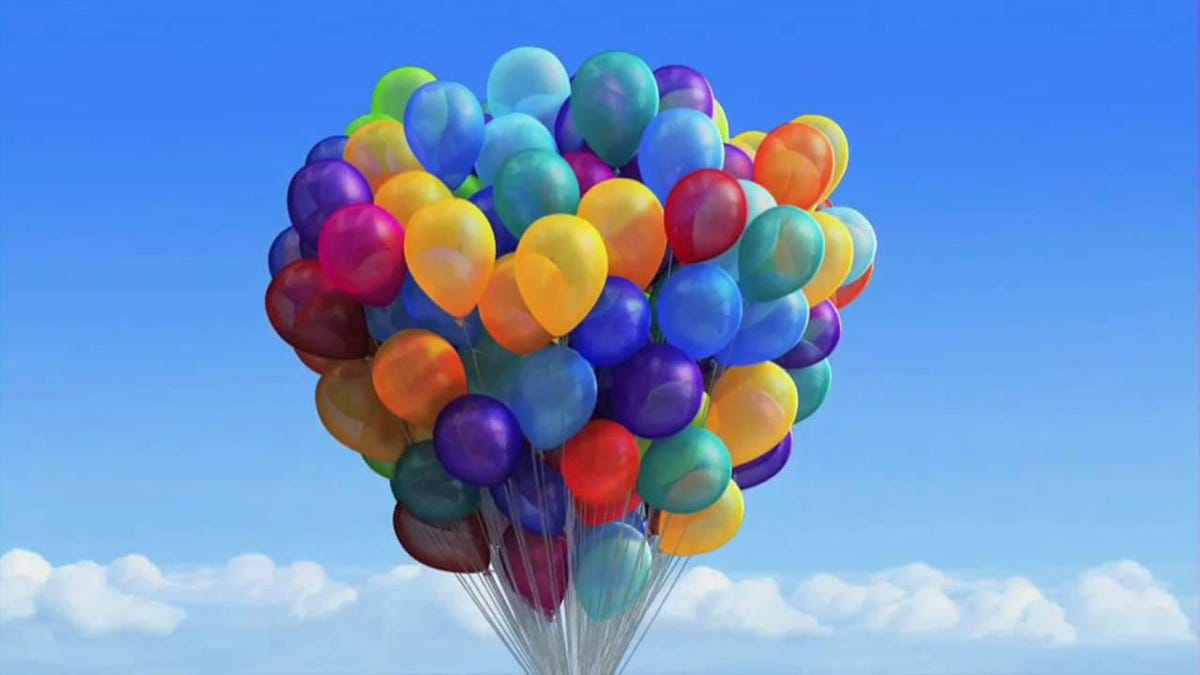Balloon: (403, 197, 496, 317), (516, 214, 608, 334), (571, 51, 660, 168), (267, 257, 369, 358), (316, 204, 406, 312), (512, 347, 598, 452), (403, 80, 484, 191), (371, 328, 467, 421), (434, 393, 528, 487), (610, 343, 703, 436), (637, 426, 732, 513), (738, 206, 824, 302), (655, 264, 742, 357), (665, 168, 748, 264), (576, 523, 653, 617), (562, 420, 640, 503), (501, 526, 570, 615)
